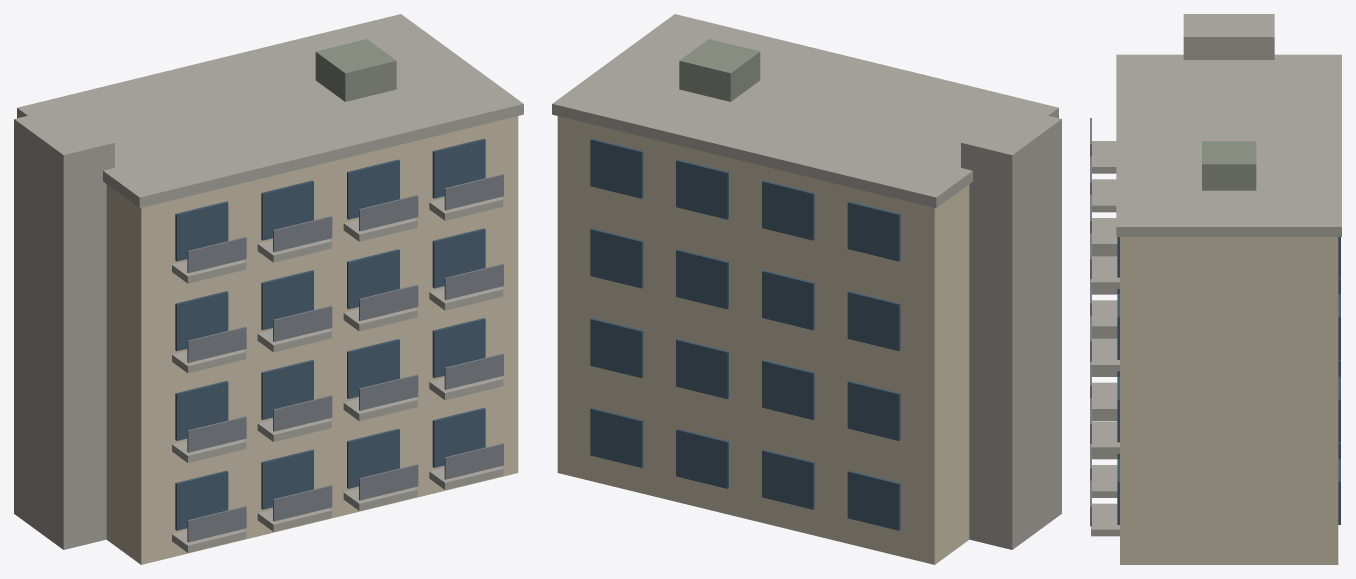
File: apartment_block.glb
3 views of the same model, side by side, from view 1: azimuth 30°, elevation 25°; view 2: azimuth 150°, elevation 25°; view 3: azimuth 270°, elevation 25° (orthographic). The views are drawn at different scales.
Visible parts, largest first — view 1: apartment_block_mesh; view 2: apartment_block_mesh; view 3: apartment_block_mesh.
Part boxes in pixels (x1=…): apartment_block_mesh: x1=14, y1=14, x2=523, y2=564; apartment_block_mesh: x1=552, y1=14, x2=1061, y2=564; apartment_block_mesh: x1=1090, y1=14, x2=1341, y2=564.
Size of the model in its own units: 0.247 by 0.222 by 0.1385.
